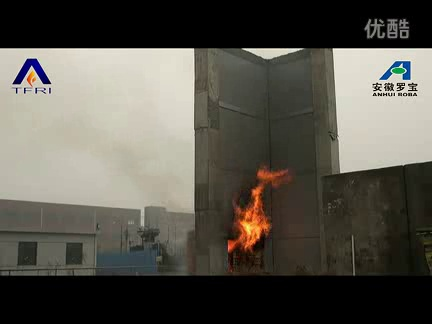fire: (223, 158, 292, 259)
